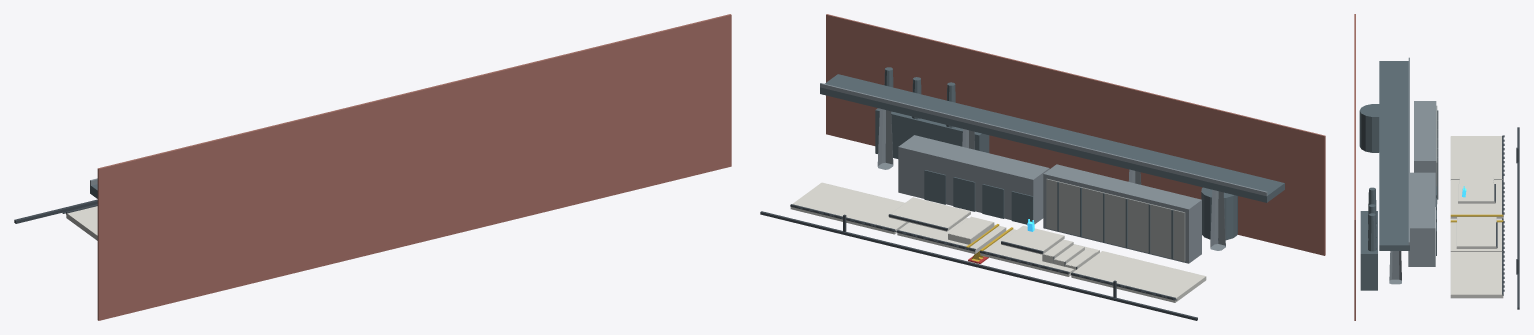
File: central_industrial_belt_v2.glb
The picture shows the model from 3 angles, left to right: view 1: azimuth 30°, elevation 25°; view 2: azimuth 150°, elevation 25°; view 3: azimuth 270°, elevation 25°; orthographic projection. The views are drawn at different scales.
Visible parts, largest first — view 1: Central_Industrial_Belt_V2; view 2: Central_Industrial_Belt_V2; view 3: Central_Industrial_Belt_V2.
Part boxes in pixels (x1=…): Central_Industrial_Belt_V2: x1=14, y1=14, x2=731, y2=320; Central_Industrial_Belt_V2: x1=760, y1=14, x2=1325, y2=320; Central_Industrial_Belt_V2: x1=1354, y1=14, x2=1519, y2=320.
Bounding box in the file's own units: 48 × 11.66 × 16.28.
